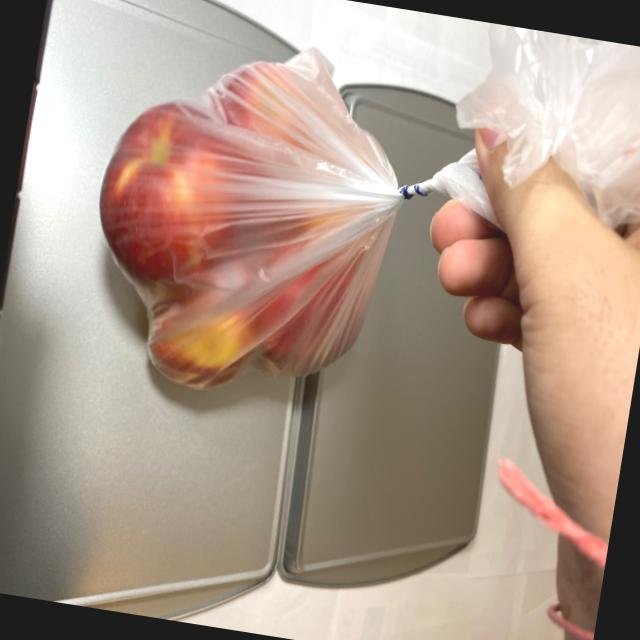apple: (69, 32, 408, 420)
